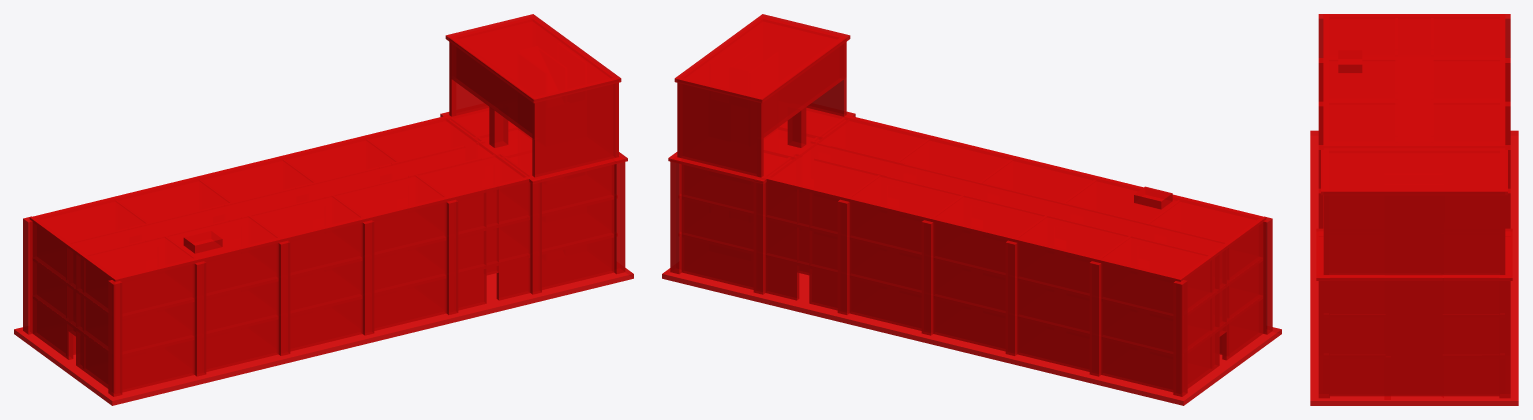
Rendered from SM_Bld_Industrial_Large_01_Collision.fbx.
3 renders of one model, left to right at view 1: azimuth 30°, elevation 25°; view 2: azimuth 150°, elevation 25°; view 3: azimuth 270°, elevation 25°, orthographic. The views are drawn at different scales.
Visible parts, largest first — view 1: SM_Bld_Industrial_Large_01_Collision; view 2: SM_Bld_Industrial_Large_01_Collision; view 3: SM_Bld_Industrial_Large_01_Collision.
Part boxes in pixels (x1,y1,x2,y2): SM_Bld_Industrial_Large_01_Collision: [14, 14, 633, 405]; SM_Bld_Industrial_Large_01_Collision: [662, 14, 1281, 405]; SM_Bld_Industrial_Large_01_Collision: [1310, 14, 1518, 405].
Size of the model in its own units: 4311 by 1603 by 1405.
